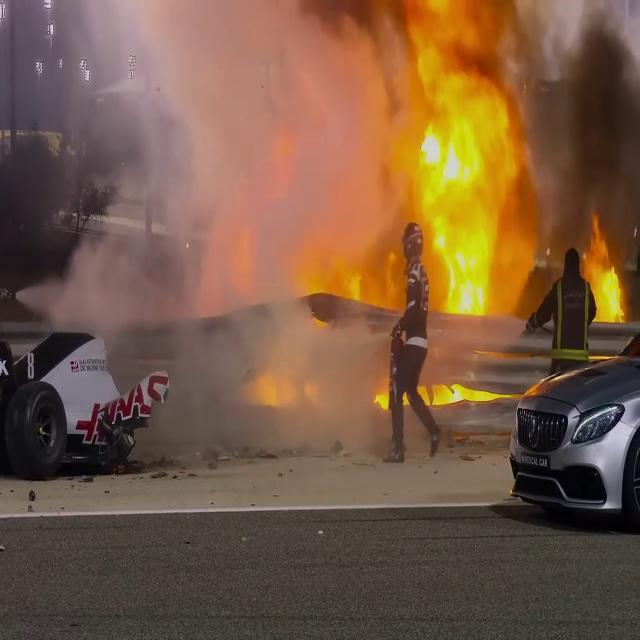Fire: (414, 102, 526, 318), (582, 215, 630, 324), (420, 374, 502, 409)
Smoke: (54, 0, 416, 406), (493, 0, 640, 241)
